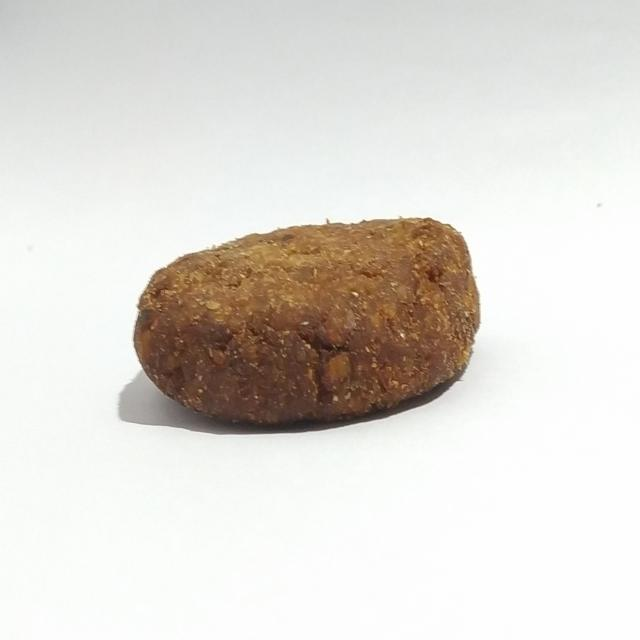Food: (128, 190, 483, 437)
